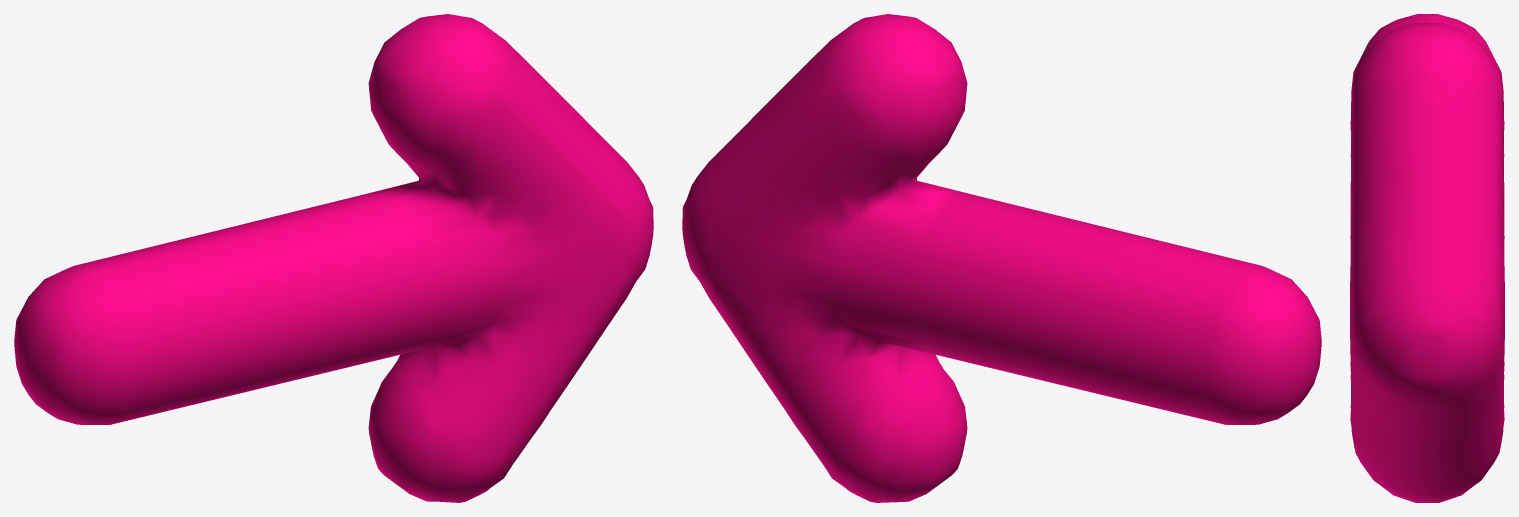
File: uploads_files_2076259_TOON_Arrow_OBJ.obj
The picture shows the model from 3 angles, left to right: view 1: azimuth 30°, elevation 25°; view 2: azimuth 150°, elevation 25°; view 3: azimuth 270°, elevation 25°; orthographic projection.
Parts seen in each view (by area): view 1: arrow; view 2: arrow; view 3: arrow.
Part boxes in pixels (left/top/right/bottom): arrow: left=14, top=14, right=653, bottom=502; arrow: left=682, top=14, right=1321, bottom=502; arrow: left=1350, top=14, right=1504, bottom=502.
Bounding box in the file's own units: 3.05 × 2.24 × 0.6736.
